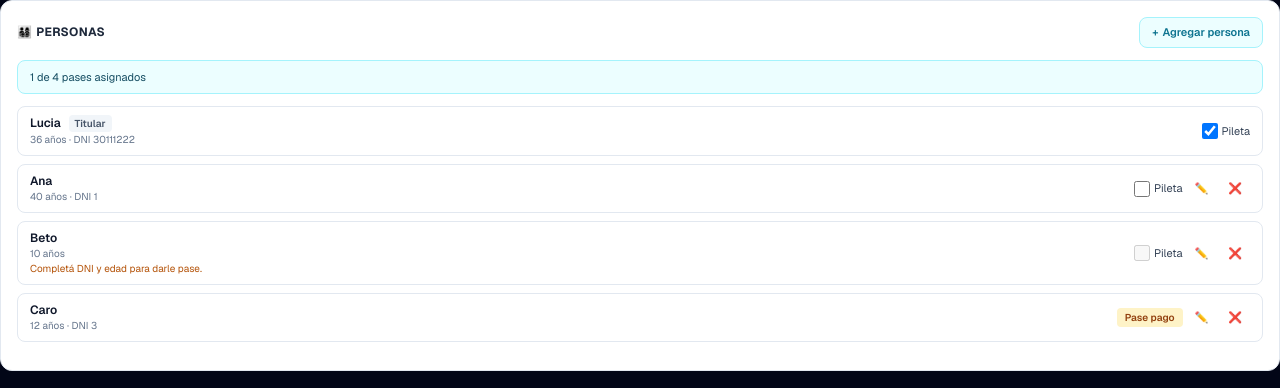
Test case: pases de pileta en la lista de personas › tildar a una persona completa le da el pase
The image size is (1280, 388).
expect the text "Ana" is shown: met, box [30,173,52,189]
Click the checkbox labelled "Pileta" in the row of "Ana".
click(1142, 188)  # box [1134,180,1150,196]
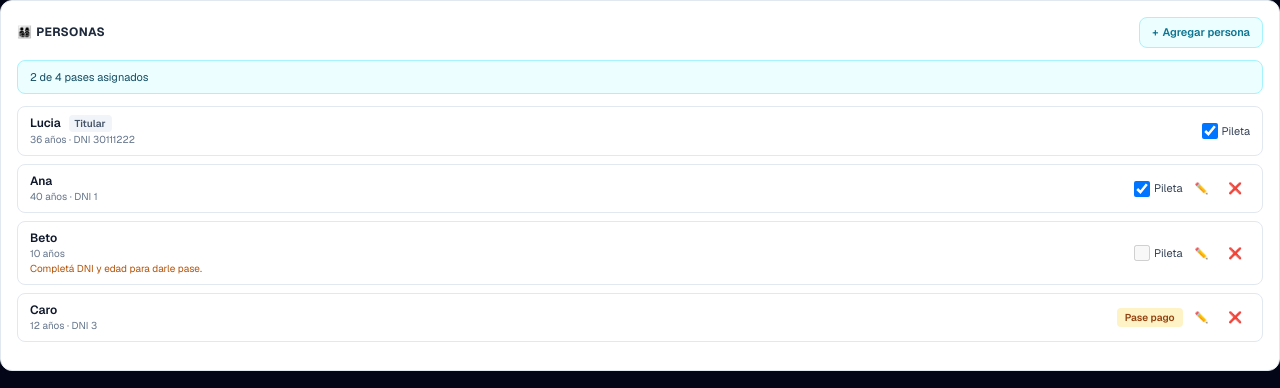
expect the text "2 de 4 pases asignados" is shown: met, box [17,60,1263,94]
